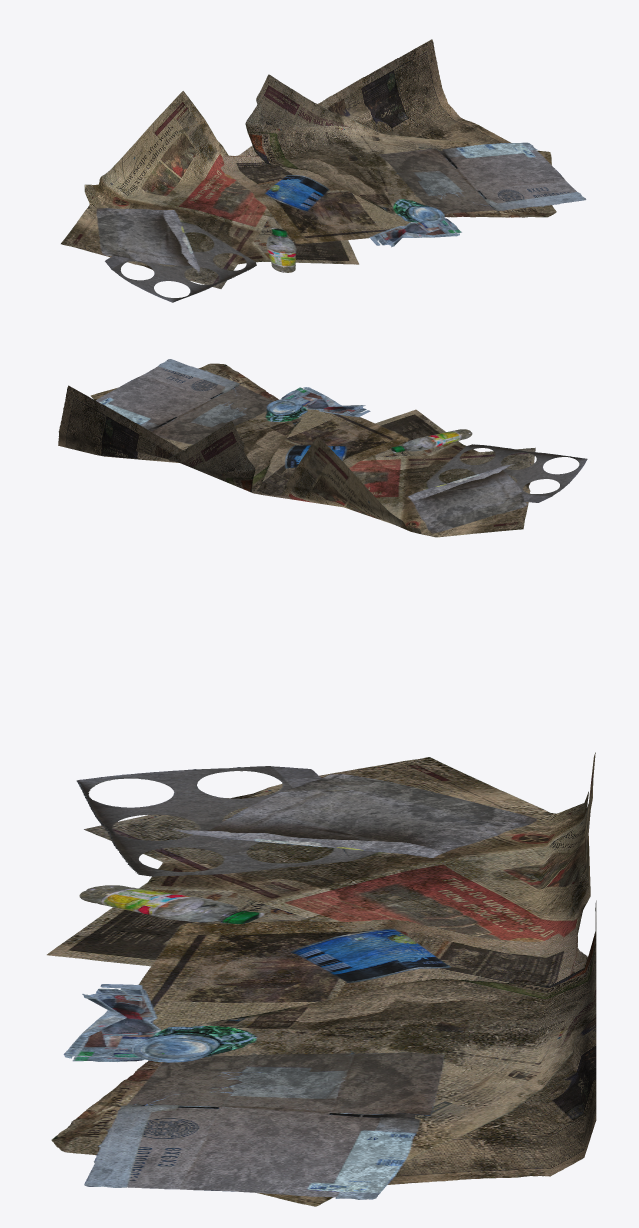
The model's file is 3D_Decal_03.fbx.
3 views of the same model, one above another, from view 1: azimuth 30°, elevation 25°; view 2: azimuth 150°, elevation 25°; view 3: azimuth 270°, elevation 25° (orthographic). The views are drawn at different scales.
Parts seen in each view (by area): view 1: ThreeD_Decal; view 2: ThreeD_Decal; view 3: ThreeD_Decal.
Boxes of the visible parts, x1,y1,x2,y2 form: ThreeD_Decal: [61, 39, 586, 302]; ThreeD_Decal: [58, 359, 587, 537]; ThreeD_Decal: [46, 752, 596, 1206].
Bounding box in the file's own units: 2.42 × 0.4172 × 1.23.
